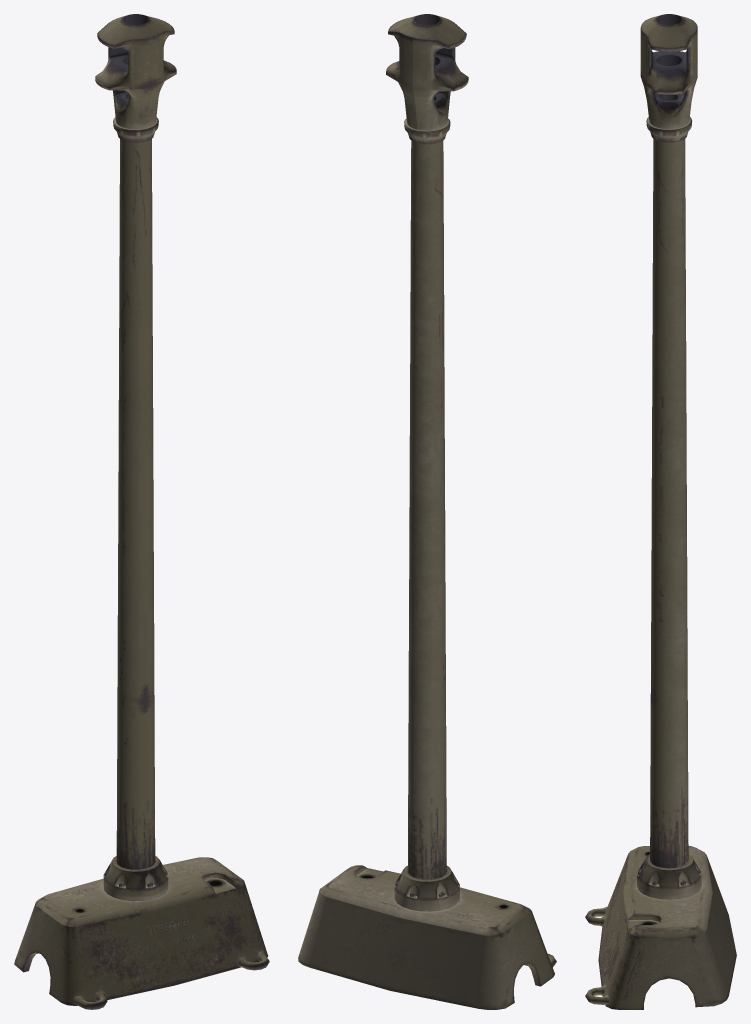
File: Gun_04.glb
The picture shows the model from 3 angles, left to right: view 1: azimuth 30°, elevation 25°; view 2: azimuth 150°, elevation 25°; view 3: azimuth 270°, elevation 25°; orthographic projection.
Parts seen in each view (by area): view 1: set_0_group_0; view 2: set_0_group_0; view 3: set_0_group_0.
Boxes of the visible parts, bbox=[...] form: set_0_group_0: bbox=[14, 14, 269, 1009]; set_0_group_0: bbox=[298, 14, 556, 1009]; set_0_group_0: bbox=[585, 14, 736, 1009].
Bounding box in the file's own units: 1.34 × 5.9 × 0.8638.
1 material, 1 textured.
